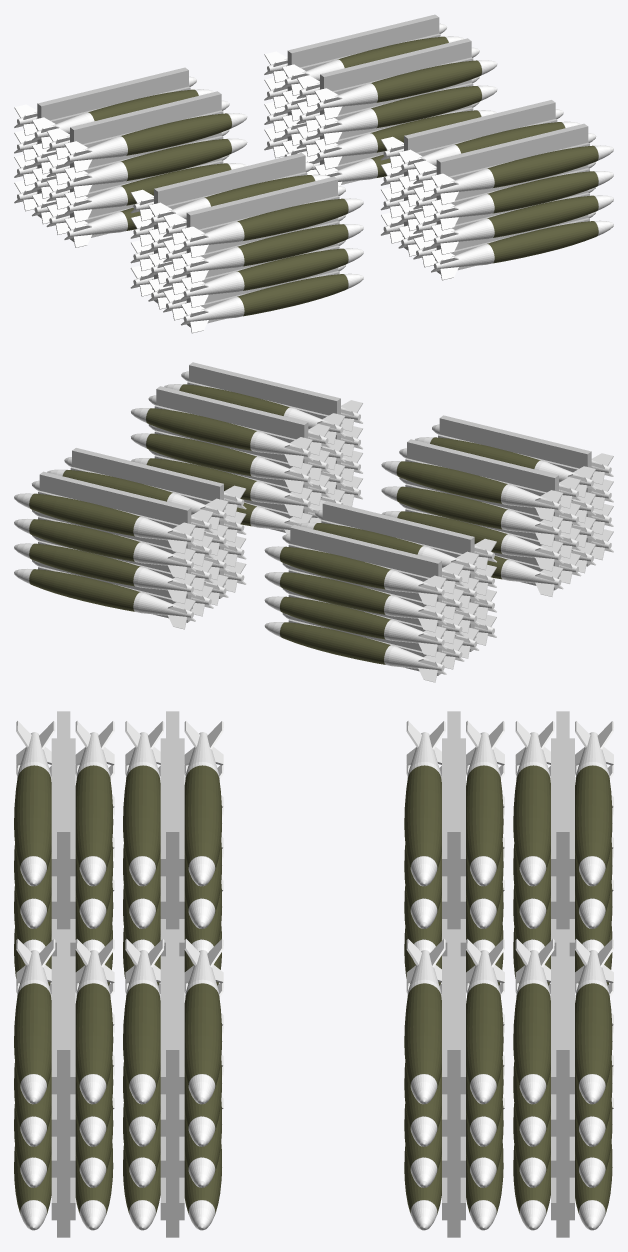
Rendered from b2amk821.glb.
3 renders of one model, top to bottom at view 1: azimuth 30°, elevation 25°; view 2: azimuth 150°, elevation 25°; view 3: azimuth 270°, elevation 25°, orthographic. The views are drawn at different scales.
Parts seen in each view (by area): view 1: 立方体.014, 立方体.016, 立方体.012, 立方体.004, 円柱.015, 円柱.031, 円柱.063, 円柱.047, 円柱.029, 円柱.045, 円柱.057, 円柱.013 (+47 smaller); view 2: 立方体.001, 立方体.007, 立方体.013, 立方体.015, 円柱.008, 円柱.040, 円柱.024, 円柱.056, 円柱.038, 円柱.054, 円柱.018, 円柱.022 (+47 smaller); view 3: 立方体.013, 立方体.014, 立方体.001, 立方体.004, 立方体.015, 立方体.016, 円柱.064, 円柱.048, 円柱.056, 円柱.040, 円柱.008, 円柱.016 (+52 smaller).
Part boxes in pixels (x1,y1,x2,y2): 立方体.014: (435, 123, 589, 274); 立方体.016: (185, 176, 339, 327); 立方体.012: (68, 91, 223, 241); 立方体.004: (318, 38, 473, 184); 円柱.015: (314, 60, 497, 119); 円柱.031: (64, 113, 247, 172); 円柱.063: (181, 198, 363, 257); 円柱.047: (431, 145, 613, 204); 円柱.029: (64, 138, 247, 198); 円柱.045: (431, 171, 613, 230); 円柱.057: (181, 273, 363, 333); 円柱.013: (314, 85, 497, 145); 立方体.001: (38, 471, 192, 622); 立方体.007: (288, 524, 443, 675); 立方体.013: (154, 386, 309, 532); 立方体.015: (405, 439, 560, 590); 円柱.008: (14, 493, 195, 553); 円柱.040: (131, 408, 312, 468); 円柱.024: (264, 546, 446, 607); 円柱.056: (381, 461, 563, 521); 円柱.038: (131, 433, 312, 493); 円柱.054: (381, 486, 563, 546); 円柱.018: (264, 622, 446, 682); 円柱.022: (264, 572, 446, 632); 立方体.013: (160, 929, 184, 1237); 立方体.014: (51, 929, 75, 1237); 立方体.001: (551, 929, 574, 1237); 立方体.004: (442, 929, 465, 1237); 立方体.015: (160, 711, 184, 956); 立方体.016: (51, 711, 75, 956); 円柱.064: (75, 721, 114, 886); 円柱.048: (75, 939, 114, 1104); 円柱.056: (184, 721, 223, 886); 円柱.040: (184, 939, 223, 1104); 円柱.008: (575, 938, 613, 1104); 円柱.016: (466, 939, 504, 1104).
Size of the model in its own units: 5.8 by 1.55 by 4.2.
Materials: 4 (1 with a texture image).
